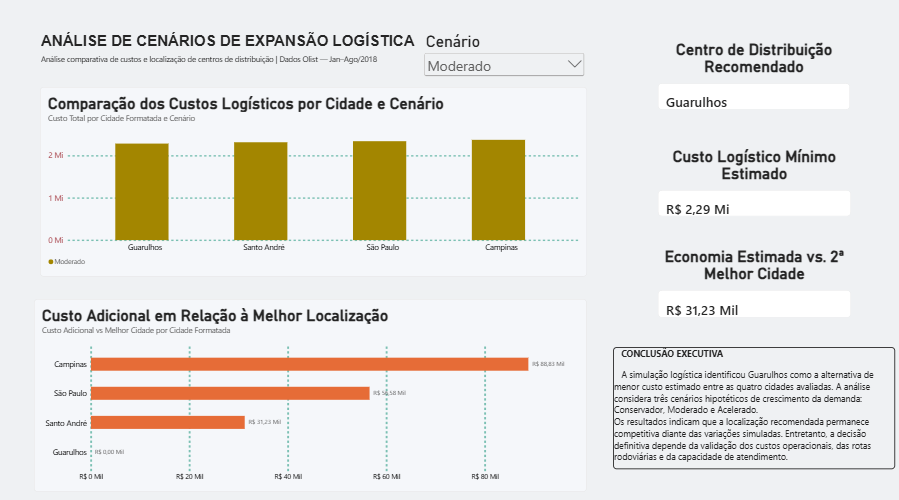

This screenshot's page, from the dashboard's own definition file:
{"tool":"powerbi","page":{"name":"Cenários de Expansão","canvas":[1920,1080],"ordinal":1},"visuals":[{"type":"clusteredColumnChart","title":"Comparação dos Custos Logísticos por Cidade e Cenário","fields":{"Category":["raw resultado_cenarios.Cidade Formatada"],"Series":["raw resultado_cenarios.cenario"],"Y":["Sum(raw resultado_cenarios.custo_total)"]},"box":[92.5,200,1162.5,402.5],"z":0},{"type":"slicer","fields":{"Values":["raw resultado_cenarios.cenario"]},"box":[905,82.5,350,96.7],"z":1000},{"type":"cardVisual","title":"Centro de Distribuição Recomendado","fields":{"Data":["raw resultado_cenarios.Centro Recomendado"]},"box":[1407.5,100,408.8,148.8],"z":2000},{"type":"cardVisual","title":"Custo Logístico Mínimo Estimado","fields":{"Data":["raw clientes.Menor Custo Logístico"]},"box":[1407.5,327.5,410,147.5],"z":3000},{"type":"cardVisual","title":"Economia Estimada vs. 2ª Melhor Cidade","fields":{"Data":["raw clientes.Economia Estimada"]},"box":[1407.5,540,410,150],"z":4000},{"type":"clusteredBarChart","title":"Custo Adicional em Relação à Melhor Localização","fields":{"Category":["raw resultado_cenarios.Cidade Formatada"],"Y":["raw clientes.Custo Adicional vs Melhor Cidade"]},"box":[80,650,1175,410],"z":5000},{"type":"textbox","box":[92.5,130,680,70],"z":6000},{"type":"textbox","box":[96.7,83.3,810,46.7],"z":7000},{"type":"textbox","box":[95,130,733.3,35],"z":8000},{"type":"textbox","box":[1312.5,752.5,600,260],"z":9000}]}

Visuals, with their boxes in screenshot pixels (x1, y1, x2, y2), scaled from the page's 1920x1080 canvas onto the 899x500 screenshot:
"Comparação dos Custos Logísticos por Cidade e Cenário" clusteredColumnChart: x1=43, y1=93, x2=588, y2=279
slicer - raw resultado_cenarios.cenario: x1=424, y1=38, x2=588, y2=83
"Centro de Distribuição Recomendado" cardVisual: x1=659, y1=46, x2=850, y2=115
"Custo Logístico Mínimo Estimado" cardVisual: x1=659, y1=152, x2=851, y2=220
"Economia Estimada vs. 2ª Melhor Cidade" cardVisual: x1=659, y1=250, x2=851, y2=319
"Custo Adicional em Relação à Melhor Localização" clusteredBarChart: x1=37, y1=301, x2=588, y2=491
textbox: x1=43, y1=60, x2=362, y2=93
textbox: x1=45, y1=39, x2=425, y2=60
textbox: x1=44, y1=60, x2=388, y2=76
textbox: x1=615, y1=348, x2=895, y2=469
